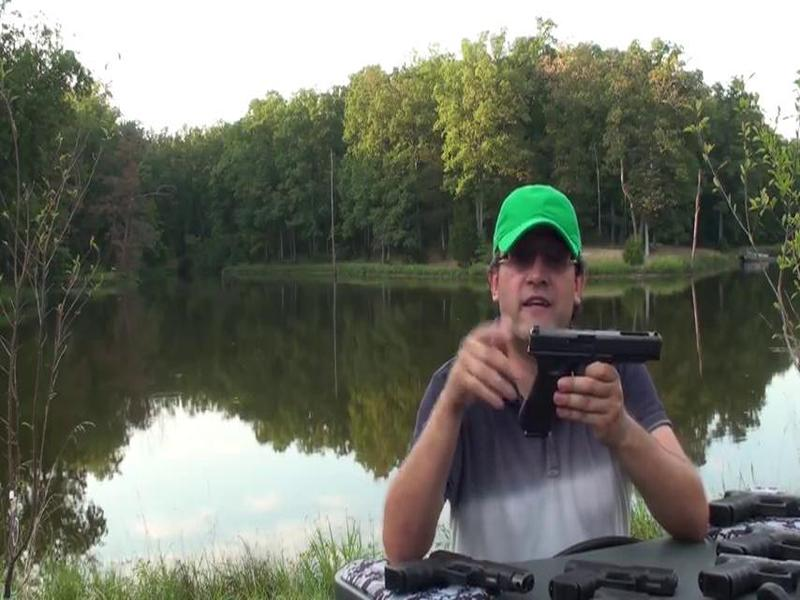Pistola: (521, 306, 676, 444)
